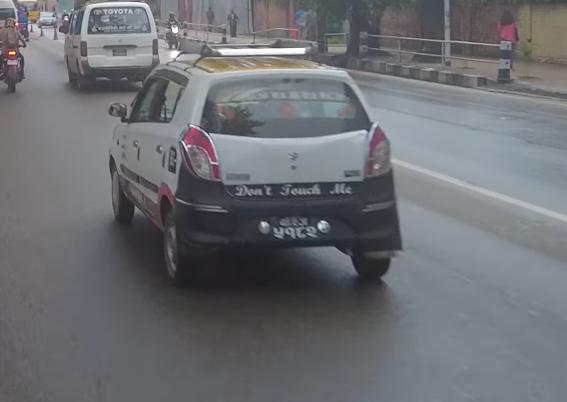bike: (0, 36, 25, 94), (166, 21, 181, 49)
car: (39, 12, 58, 28)
micro_bus: (56, 5, 169, 86), (0, 0, 19, 41)
school_bus: (18, 0, 41, 24)
taxi: (101, 40, 406, 290)
